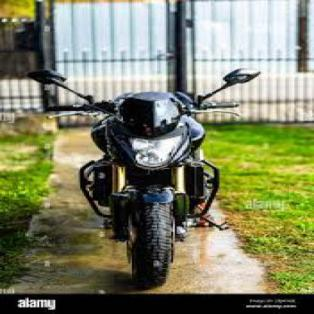Motocicleta: (26, 59, 263, 292)
